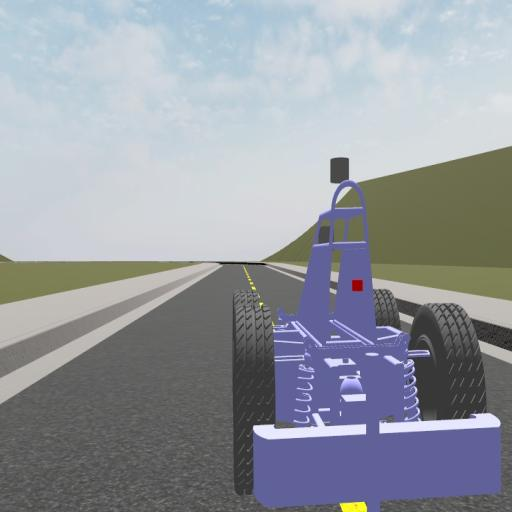ERP-42: (232, 155, 502, 508)
